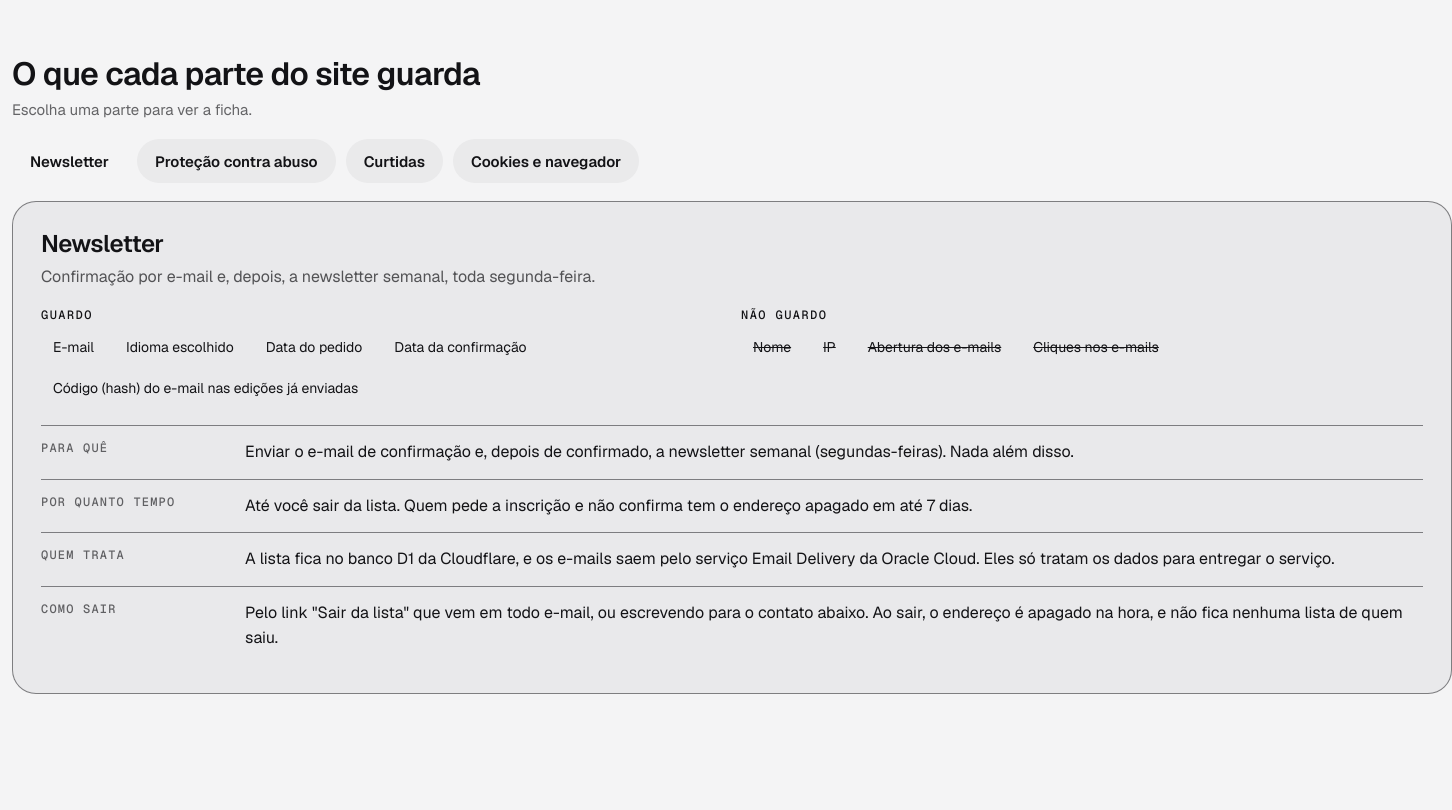
Test: PrivacyFichas › shows the newsletter card first and switches with the tabs
The width and height of the screenshot is (1452, 810).
Expected: the heading "Newsletter" is shown, [41, 228, 164, 259]
Step 1. Click the button "Curtidas" → (394,161), box [346, 139, 443, 183]
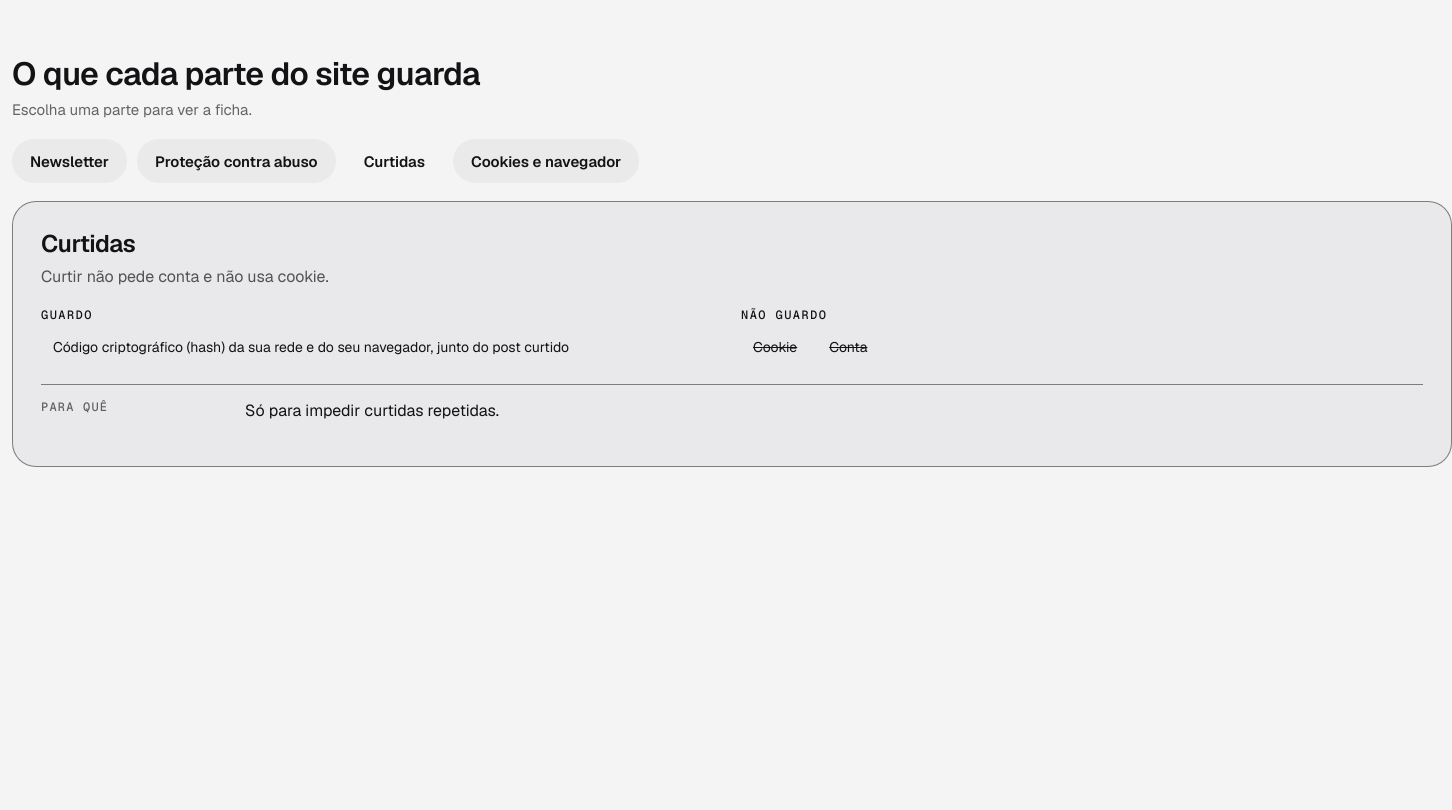
Expected: the heading "Curtidas" is shown, [41, 228, 135, 259]
Expected: the text "Só para impedir curtidas repetidas." is shown, [245, 400, 499, 421]
Expected: the text "Até você sair da lista." is gone
